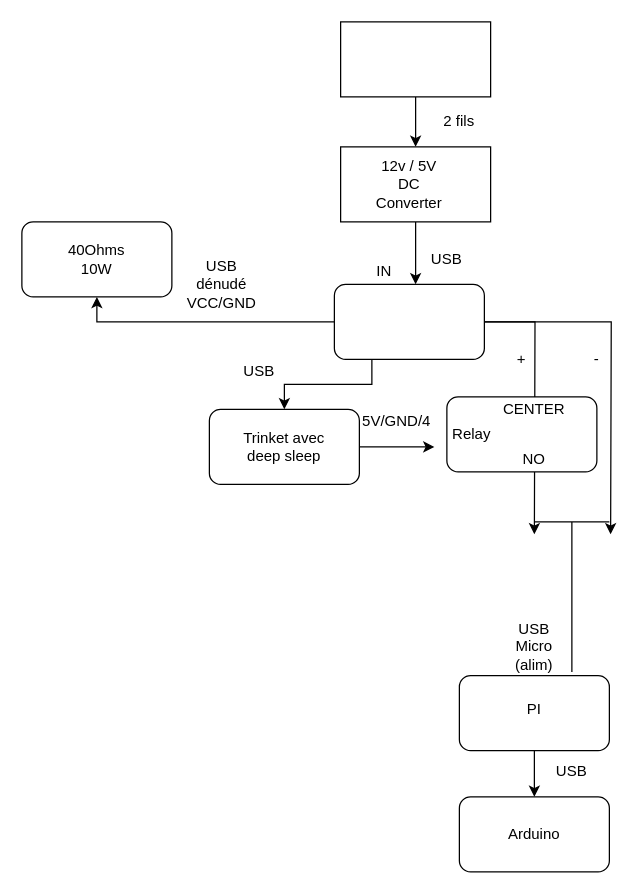
Image size: 644x894. Some labels were removed from this diagram. The centre of each missing label's shape, as x and y in pixels:
"Power Bank" belongs at [408,321].
"Solar Panel" belongs at [415,59].
